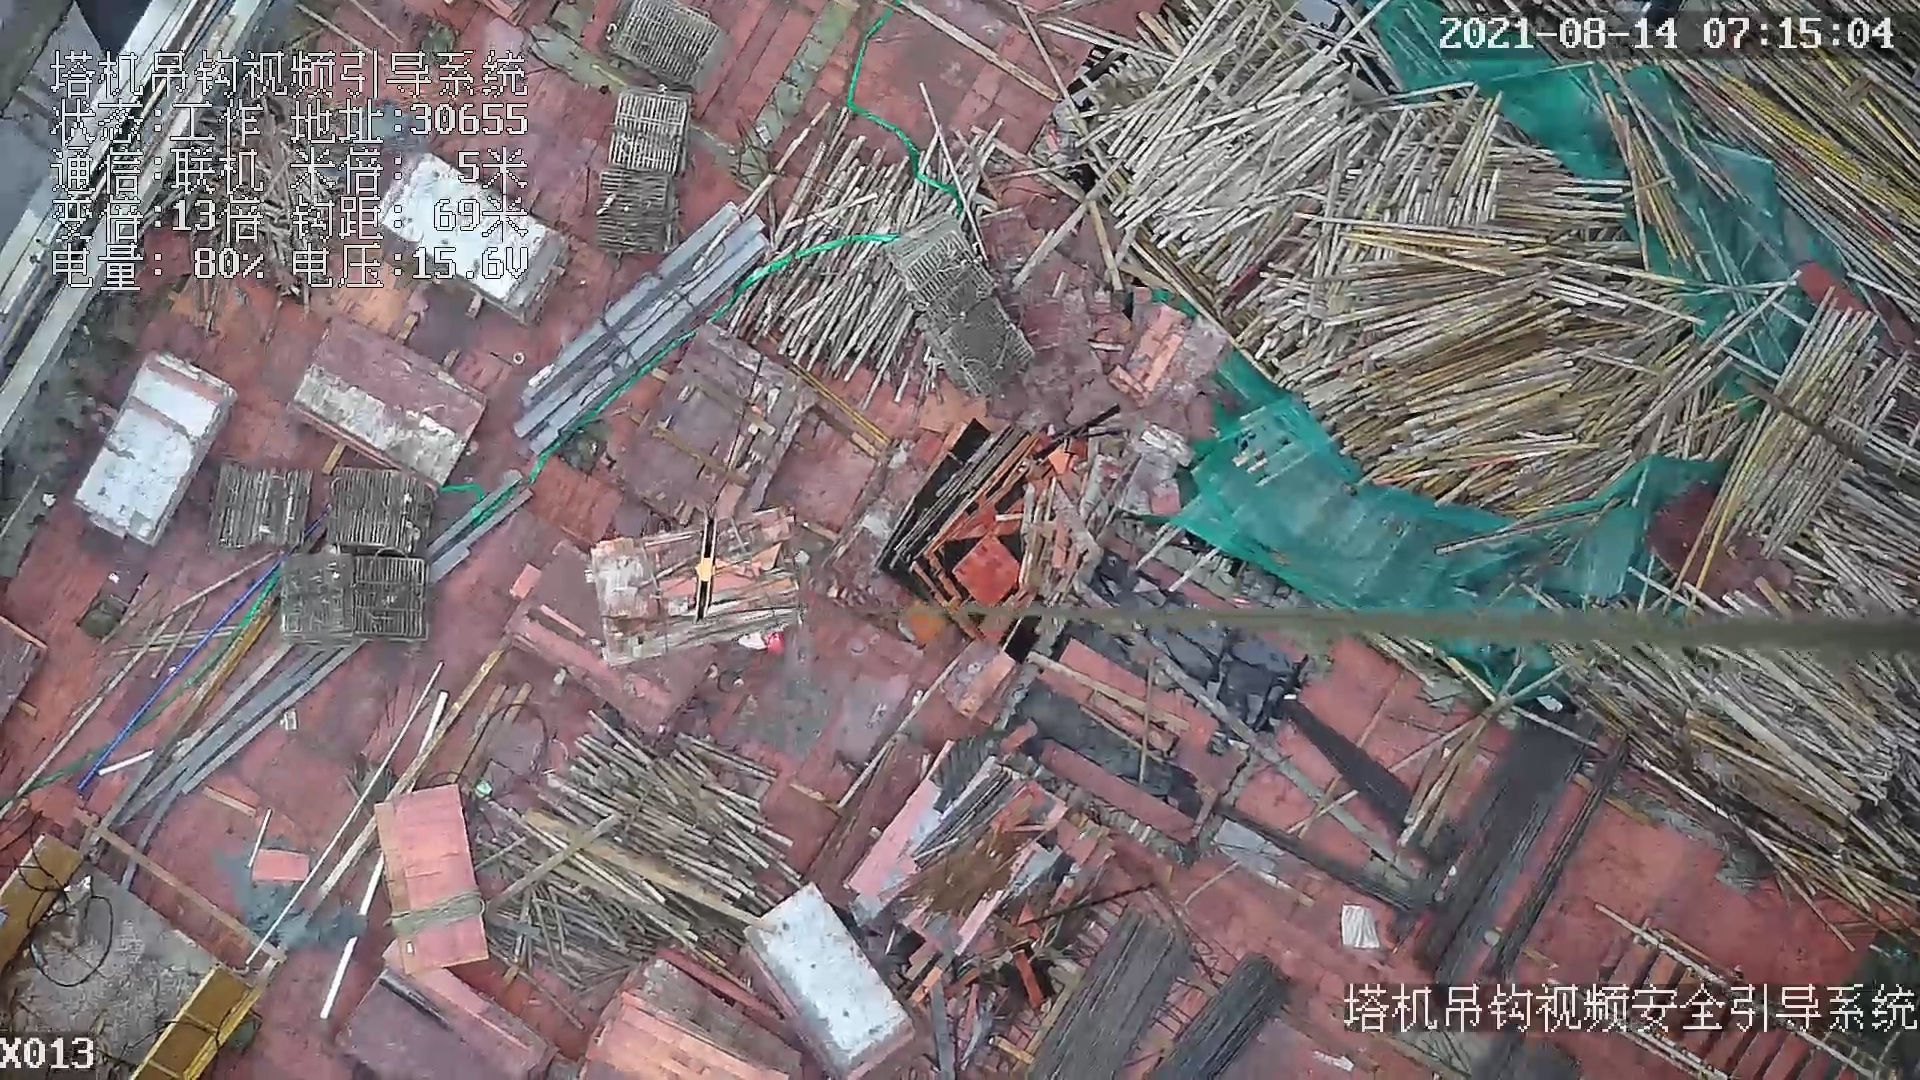helmet: (767, 632, 782, 654)
hook: (683, 514, 727, 627)
person: (741, 622, 781, 656)
